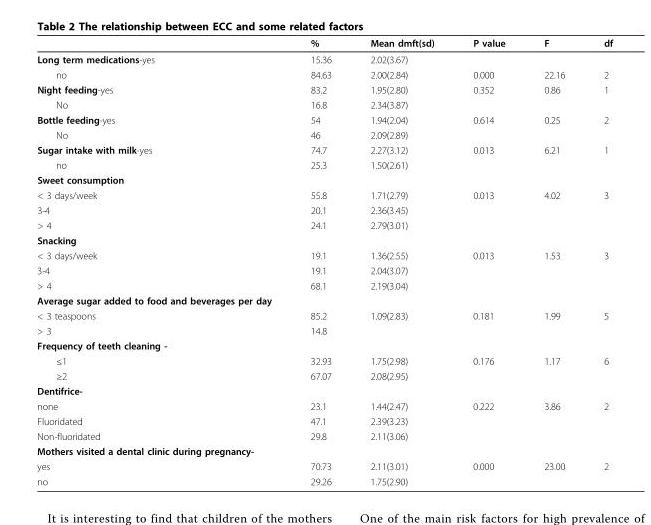table: (36, 36, 612, 486)
table column: (36, 36, 290, 486), (350, 36, 452, 486), (452, 36, 524, 486), (290, 36, 350, 486), (524, 36, 583, 486), (583, 36, 612, 486)
table column header: (36, 36, 612, 50)
table projected row header: (36, 337, 612, 353), (36, 172, 612, 187), (36, 232, 612, 247), (36, 292, 612, 307), (36, 383, 612, 398), (36, 443, 612, 458)
table row: (36, 50, 612, 66), (36, 111, 612, 127), (36, 337, 612, 353), (36, 66, 612, 81), (36, 81, 612, 96), (36, 96, 612, 111), (36, 127, 612, 142), (36, 142, 612, 157), (36, 157, 612, 172), (36, 172, 612, 187), (36, 187, 612, 202), (36, 202, 612, 217), (36, 217, 612, 232), (36, 232, 612, 247), (36, 247, 612, 262), (36, 262, 612, 277), (36, 277, 612, 292), (36, 292, 612, 307), (36, 307, 612, 322), (36, 322, 612, 337), (36, 353, 612, 368), (36, 368, 612, 383), (36, 383, 612, 398), (36, 398, 612, 413), (36, 413, 612, 428), (36, 428, 612, 443), (36, 443, 612, 458), (36, 458, 612, 473), (36, 36, 612, 50), (36, 473, 612, 486)
